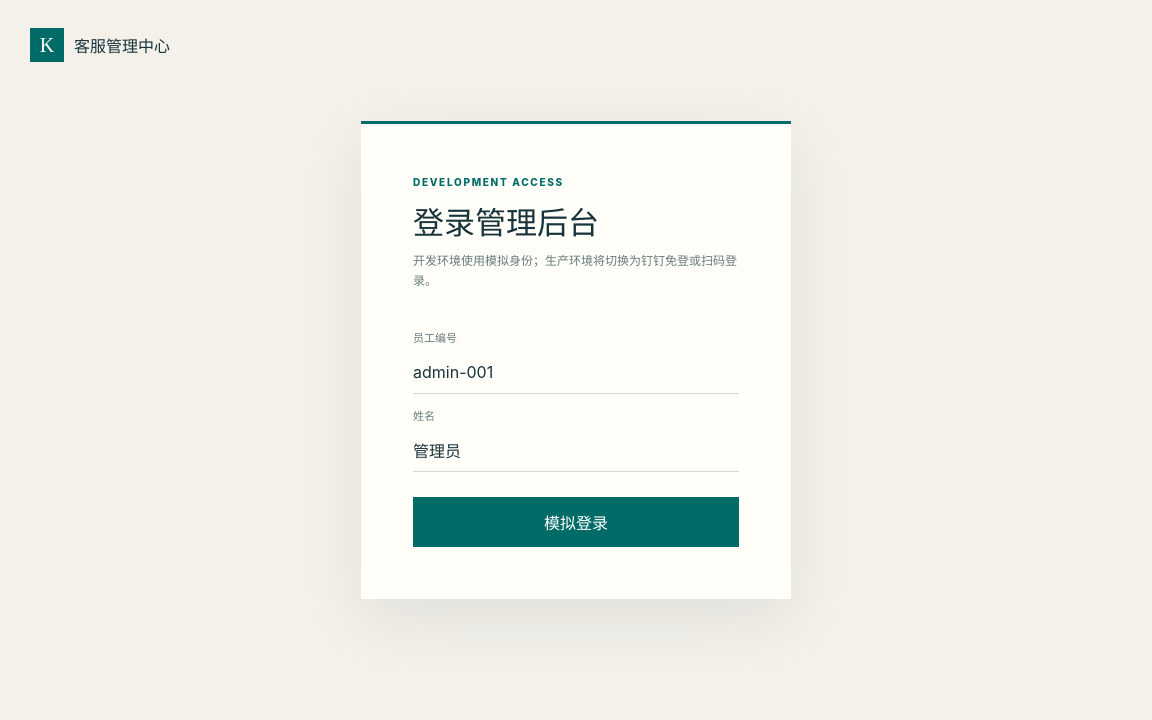
it: 统一前端入口 › 管理员模拟登录后展示十个业务模块目录
The image size is (1152, 720).
Step 1. Click the button "模拟登录" → [576, 522], box x1=413 y1=497 x2=739 y2=547
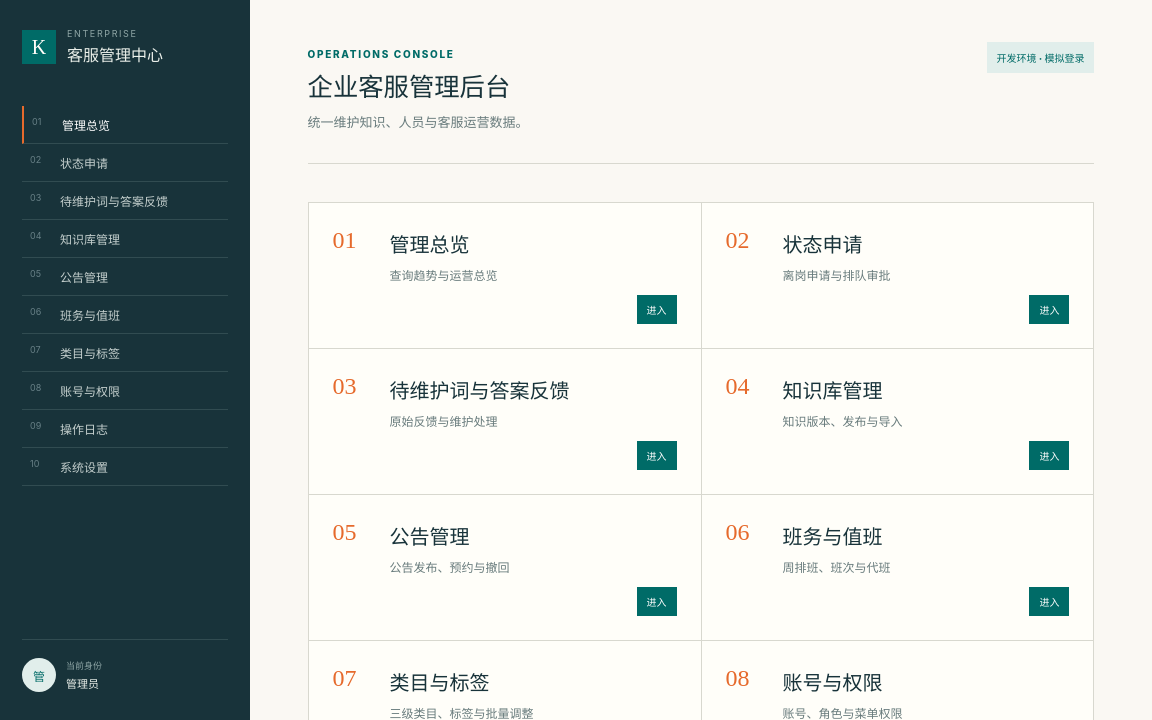
Expected: the navigation bar named "管理模块" is shown, x1=22 y1=106 x2=228 y2=486
Expected: the link "01 管理总览" is shown, x1=22 y1=106 x2=228 y2=144
Expected: the link "02 状态申请" is shown, x1=22 y1=144 x2=228 y2=182
